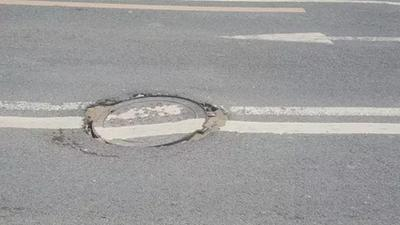wellcover: (71, 93, 229, 154)
